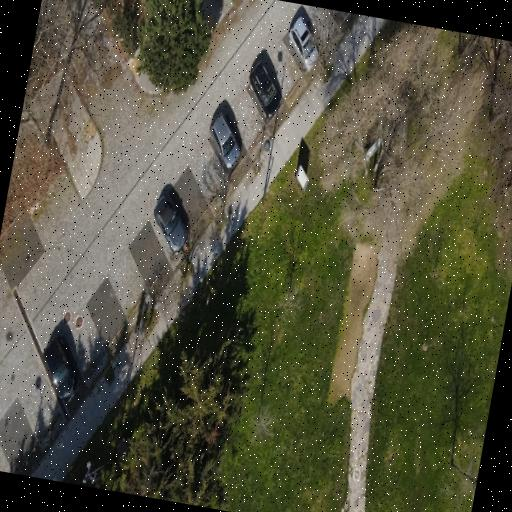car: (153, 195, 187, 253), (43, 338, 74, 399), (209, 112, 240, 170), (249, 61, 280, 118), (288, 17, 317, 71)
